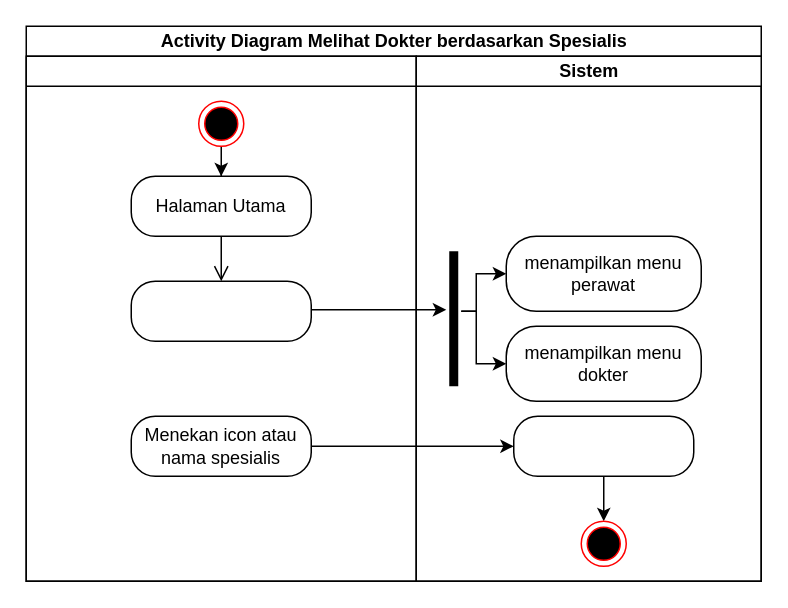
The diagram is 788 pixels wide and 608 high, and some of its shapes have lost their labels. The shapes that lost their labels are listed below. From the top down, each one's box as (x1, y1, x2, y2) in pixels, then its label:
(130, 280, 311, 341): Memilih menu chat ahli
(25, 55, 416, 581): Member
(512, 415, 694, 476): Menampilkan daftar dokter berdasarkan spesialis
